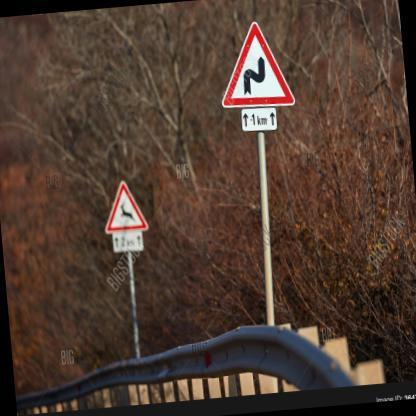road_sign: (222, 22, 294, 108), (105, 180, 148, 234), (243, 107, 277, 131), (113, 231, 144, 253)
